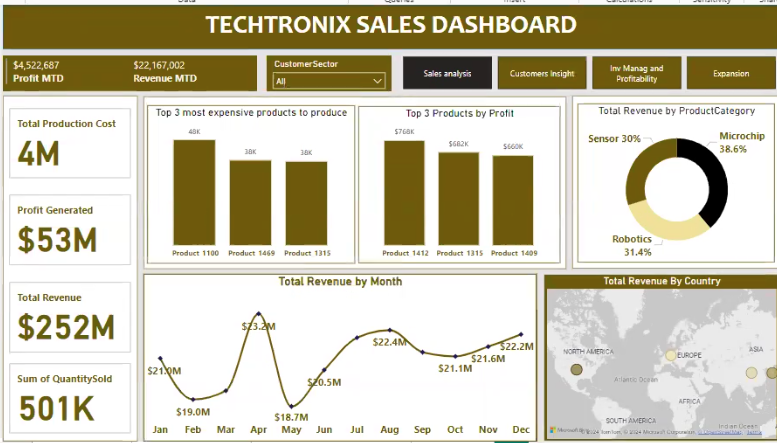

The dashboard page shown, as its layout file describes it:
{"tool":"powerbi","page":{"name":"Sales  Analysis","canvas":[1280,720],"ordinal":0},"visuals":[{"type":"cardVisual","fields":{"Data":["Measures (2).Total Qty Sold"]},"box":[0,166.6,224.1,119.6],"z":0},{"type":"cardVisual","fields":{"Data":["Measures (2).Total Profit"]},"box":[0,586,224.1,133.3],"z":1000},{"type":"cardVisual","fields":{"Data":["Measures (2).Product Cost"]},"box":[0,437.6,224.1,133.3],"z":2000},{"type":"cardVisual","fields":{"Data":["Measures (2).Total Revenue"]},"box":[0,293.8,224.1,133.3],"z":3000},{"type":"clusteredColumnChart","title":"Top 3 most expensive products to produce","fields":{"Y":["Measures (2).Product Cost"],"Category":["ProductDim.ProductName"]},"box":[234.7,166.6,375.5,274.1],"z":4000},{"type":"clusteredColumnChart","title":"Top 3 Products by Profit","fields":{"Y":["Measures (2).Total Profit"],"Category":["ProductDim.ProductName"]},"box":[626.9,166.6,322.5,271],"z":5000},{"type":"donutChart","fields":{"Y":["Measures (2).Total Revenue"],"Category":["ProductDim.ProductCategory"]},"box":[960,166.6,319.5,274.1],"z":6000},{"type":"lineChart","fields":{"Category":["CalendarDim.Month_Name"],"Y":["Measures (2).Total Revenue"]},"box":[234.7,440.6,605.7,278.6],"z":7000},{"type":"map","title":"Total Revenue by Country","fields":{"Category":["LocationDim.Country"]},"box":[850.5,440.2,428.2,278.8],"z":8000},{"type":"textbox","box":[0,0,1279.5,75.7],"z":9000},{"type":"multiRowCard","fields":{"Values":["Measures (2).Profit MTD","Measures (2).Revenue MTD"]},"box":[0,87.8,316.5,65.1],"z":10000},{"type":"slicer","fields":{"Values":["CustomerDim.CustomerSector"]},"box":[327.1,89.3,251.4,63.6],"z":11000},{"type":"pageNavigator","box":[590.5,87.8,689,65.1],"z":12000}]}

Visuals, with their boxes on the page's 1280x720 design canvas (x1, y1, x2, y2). These are canvas units, not pixel positions in the 777x443 screenshot, which may show the page scaled, cropped or inside an application window:
cardVisual - Measures (2).Total Qty Sold: 0 167 224 286
cardVisual - Measures (2).Total Profit: 0 586 224 719
cardVisual - Measures (2).Product Cost: 0 438 224 571
cardVisual - Measures (2).Total Revenue: 0 294 224 427
"Top 3 most expensive products to produce" clusteredColumnChart: 235 167 610 441
"Top 3 Products by Profit" clusteredColumnChart: 627 167 949 438
donutChart - Measures (2).Total Revenue x ProductDim.ProductCategory: 960 167 1280 441
lineChart - CalendarDim.Month_Name x Measures (2).Total Revenue: 235 441 840 719
"Total Revenue by Country" map: 850 440 1279 719
textbox: 0 0 1280 76
multiRowCard - Measures (2).Profit MTD x Measures (2).Revenue MTD: 0 88 316 153
slicer - CustomerDim.CustomerSector: 327 89 578 153
pageNavigator: 590 88 1280 153
